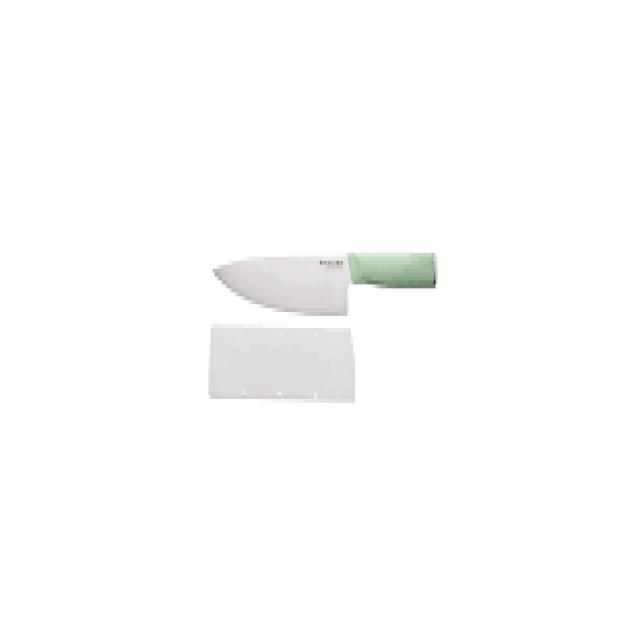Knife: (210, 249, 436, 316)
